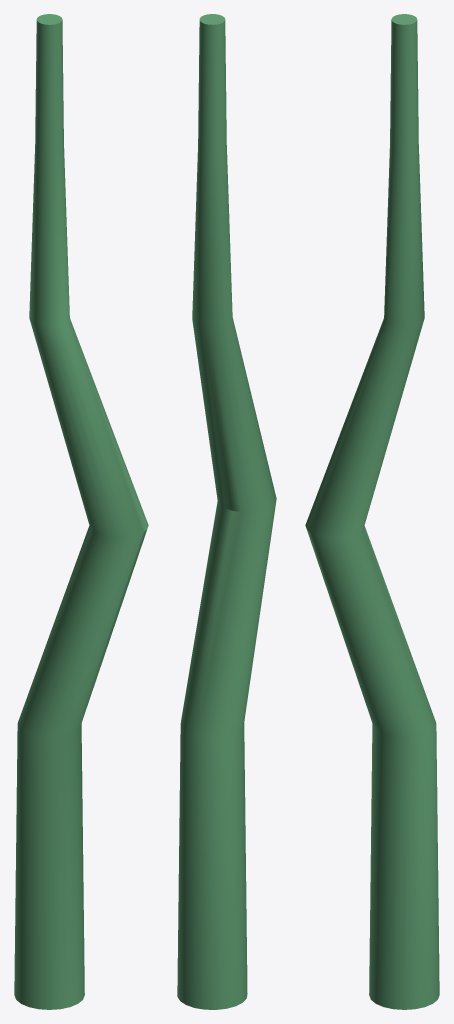
Rendered from Branches.fbx.
3 renders of one model, left to right at view 1: azimuth 90°, elevation 25°; view 2: azimuth 150°, elevation 25°; view 3: azimuth 270°, elevation 25°, orthographic.
Visible parts, largest first — view 1: Branches; view 2: Branches; view 3: Branches.
Part boxes in pixels (x1,y1,x2,y2): Branches: (14, 14, 148, 1009); Branches: (177, 14, 276, 1009); Branches: (305, 14, 439, 1009).
Bounding box in the file's own units: 66.71 × 1018 × 127.
